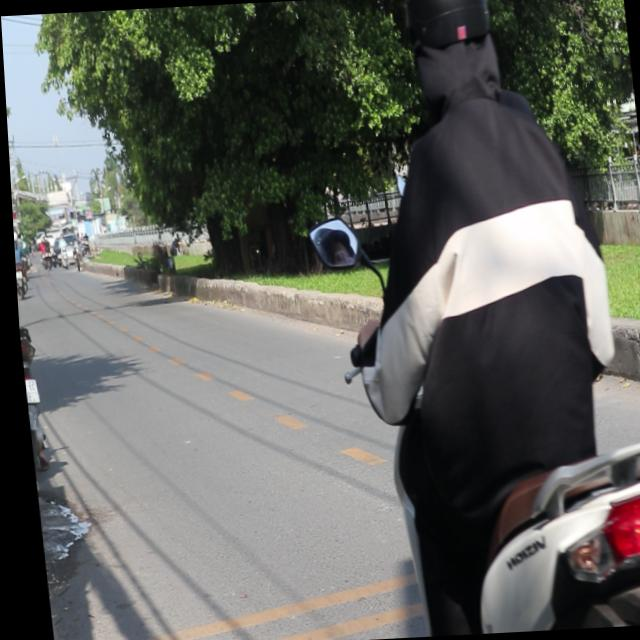helmet: (401, 0, 505, 110)
licenseplate: (307, 0, 640, 638)
nohelmet: (21, 378, 35, 403)
